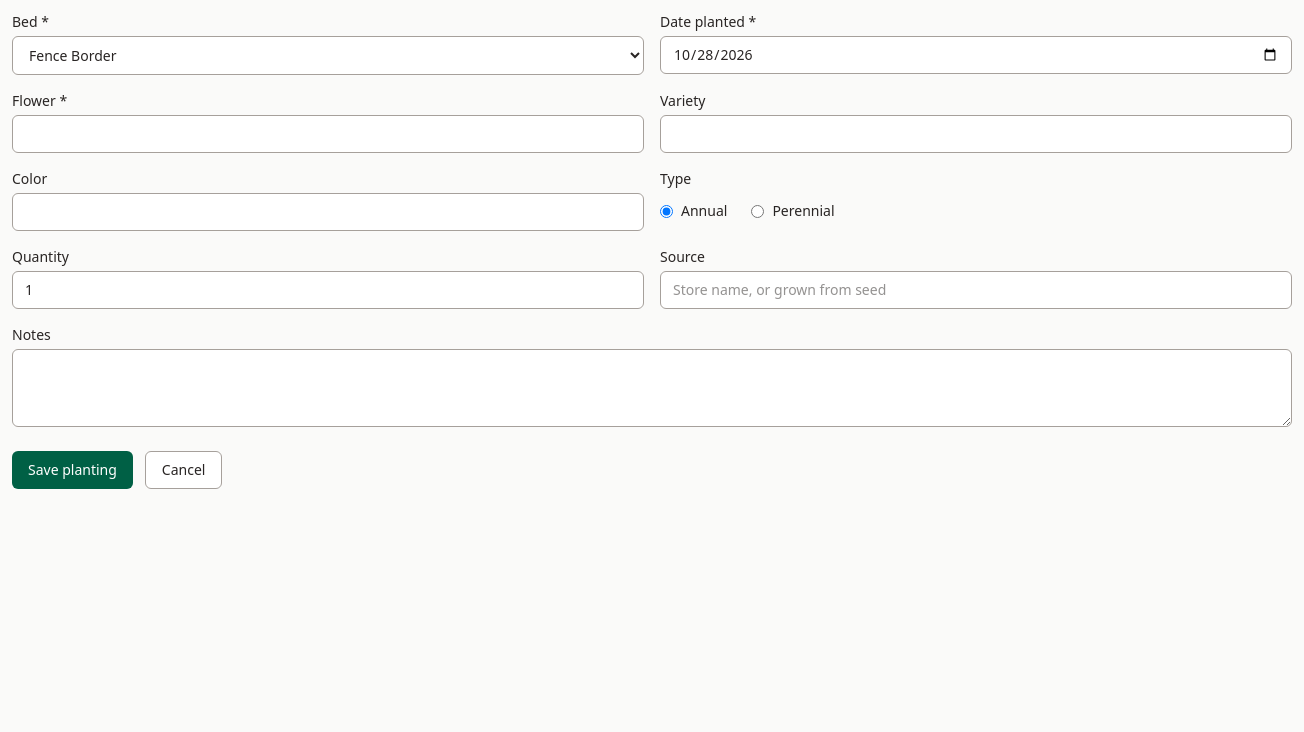
Test case: PlantingForm › rejects a quantity of zero and keeps what was typed
The image size is (1304, 732).
In the field labelled "Flower *": (328, 134) [12,115,644,153], type "Zinnia"
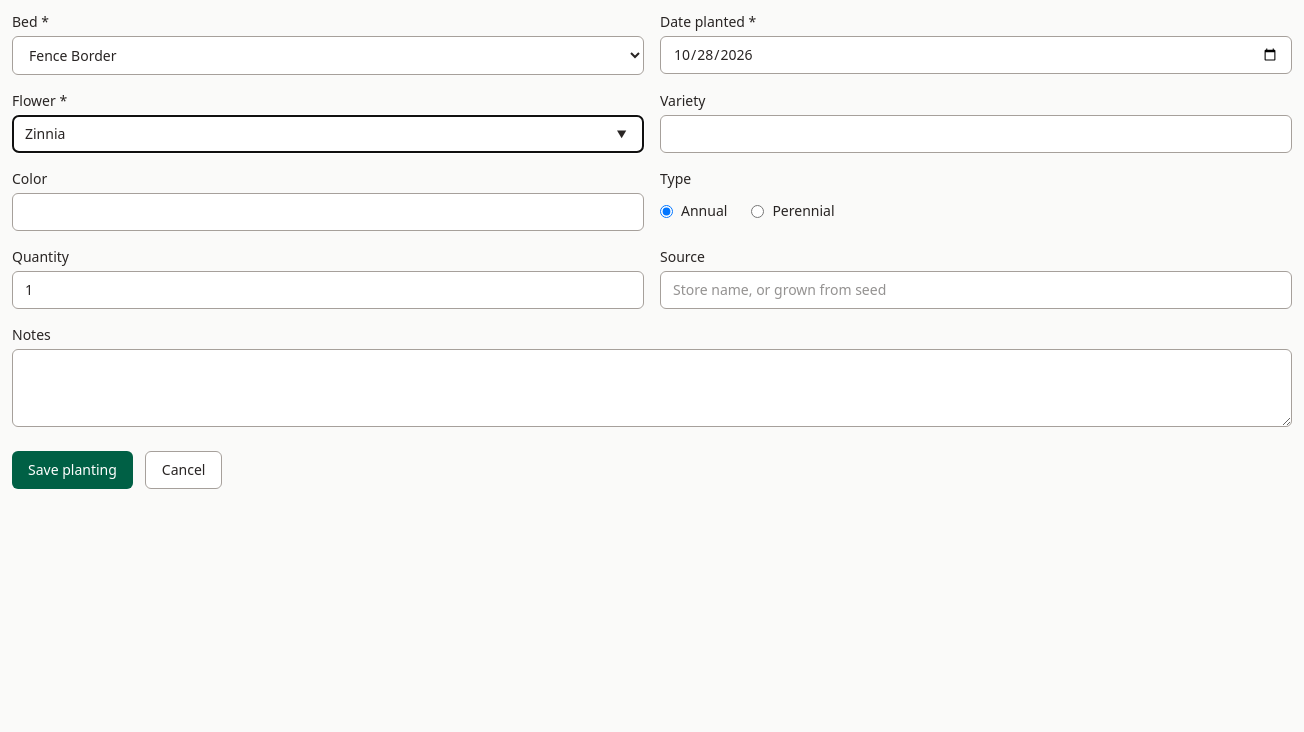
Replace the text in the number field labelled "Quantity" with "0": (328, 290) [12,271,644,309]
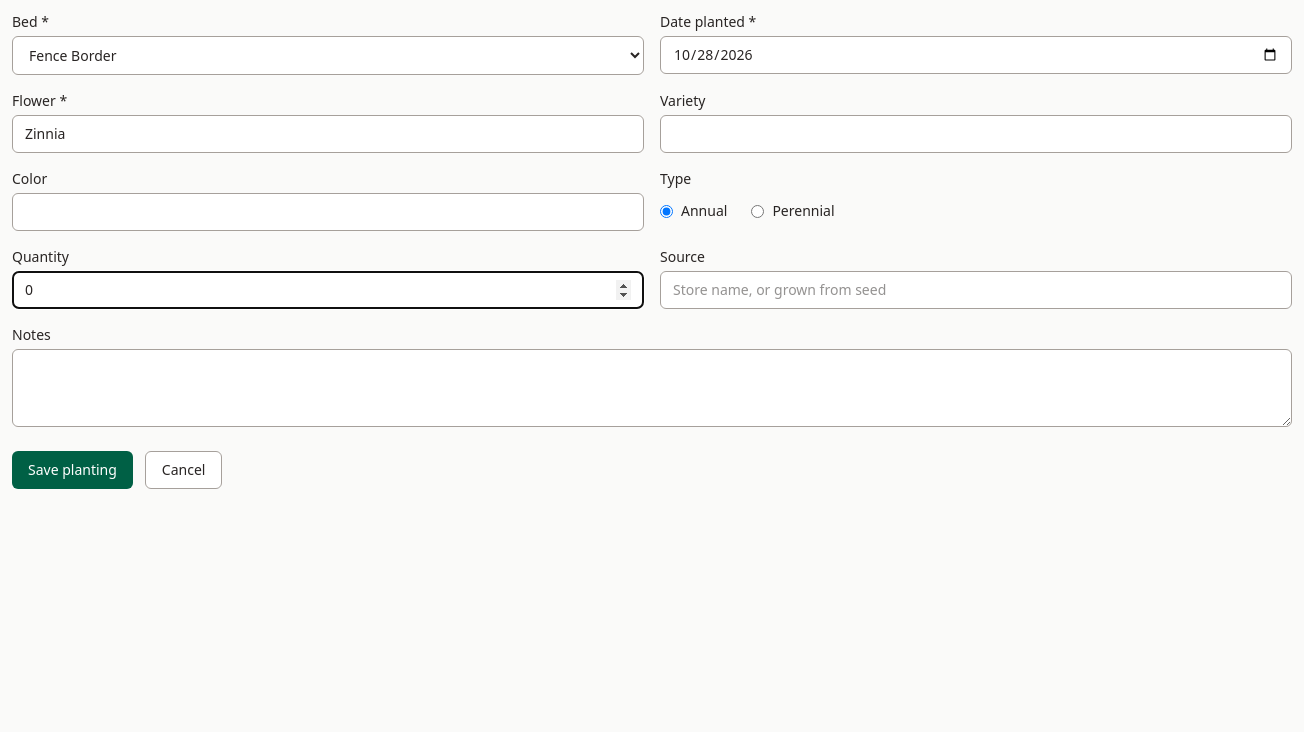
Click the button "Save planting": (72, 470) [12,451,133,489]
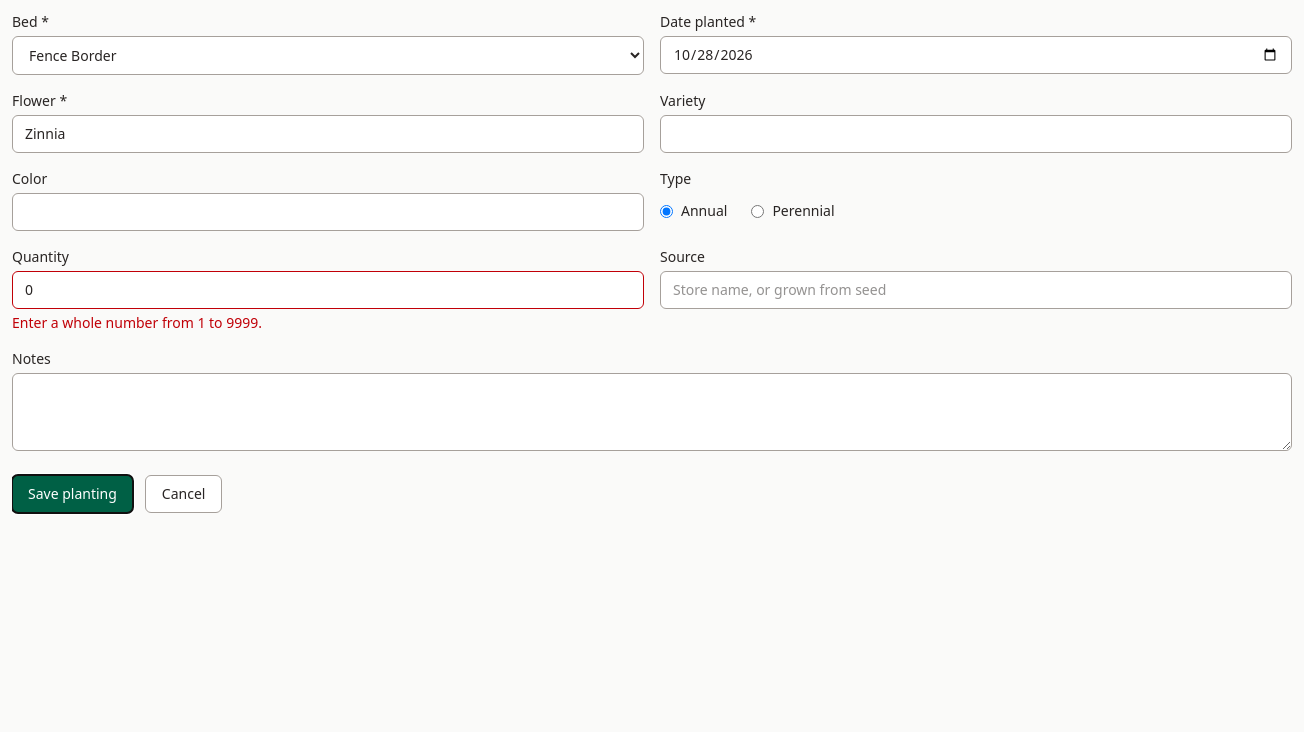
Expected: the text "Enter a whole number from 1 to 9999." is shown, [12,313,262,332]
